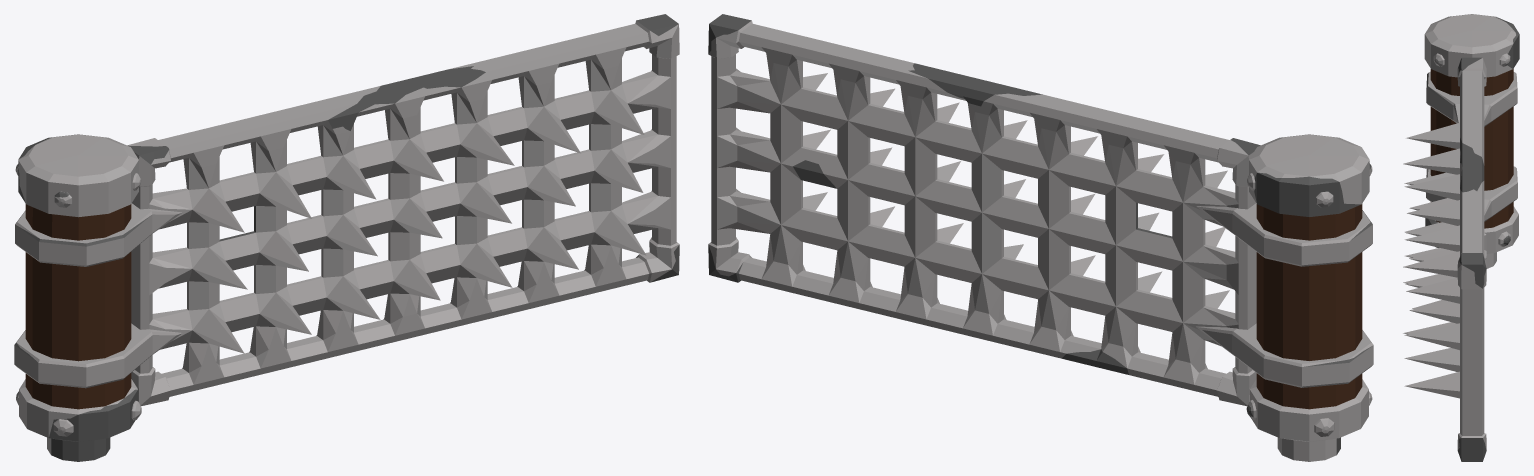
The model's file is SMLlMetalSpinningGate.fbx.
The picture shows the model from 3 angles, left to right: view 1: azimuth 30°, elevation 25°; view 2: azimuth 150°, elevation 25°; view 3: azimuth 270°, elevation 25°; orthographic projection. The views are drawn at different scales.
Parts seen in each view (by area): view 1: SMLlMetalSpinningGate; view 2: SMLlMetalSpinningGate; view 3: SMLlMetalSpinningGate.
Part boxes in pixels (x1,y1,x2,y2): SMLlMetalSpinningGate: (14,14,679,461); SMLlMetalSpinningGate: (708,14,1373,461); SMLlMetalSpinningGate: (1403,14,1519,461).
Size of the model in its own units: 241 by 104 by 48.14.
